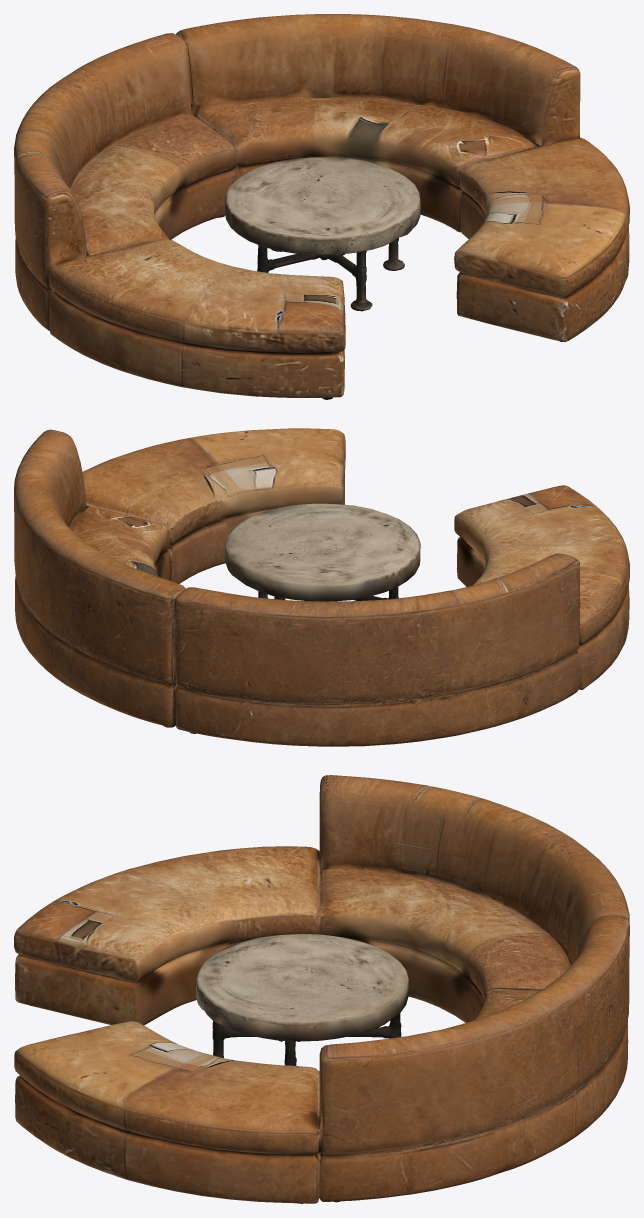
File: RishiShafa.fbx
3 renders of one model, top to bottom at view 1: azimuth 30°, elevation 25°; view 2: azimuth 150°, elevation 25°; view 3: azimuth 270°, elevation 25°, orthographic. The views are drawn at different scales.
Parts seen in each view (by area): view 1: mesh_node; view 2: mesh_node; view 3: mesh_node.
Boxes of the visible parts, left/top/right/bottom form: mesh_node: left=14, top=14, right=629, bottom=399; mesh_node: left=14, top=428, right=629, bottom=746; mesh_node: left=14, top=775, right=629, bottom=1203.
Bounding box in the file's own units: 1.98 × 0.5016 × 1.81.
